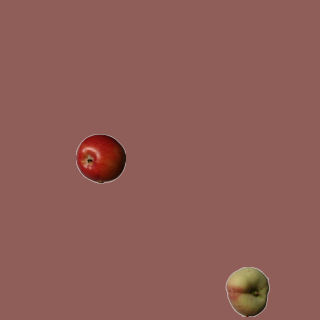Apple Braeburn: (75, 133, 125, 183)
Peach Flat: (222, 266, 272, 316)
